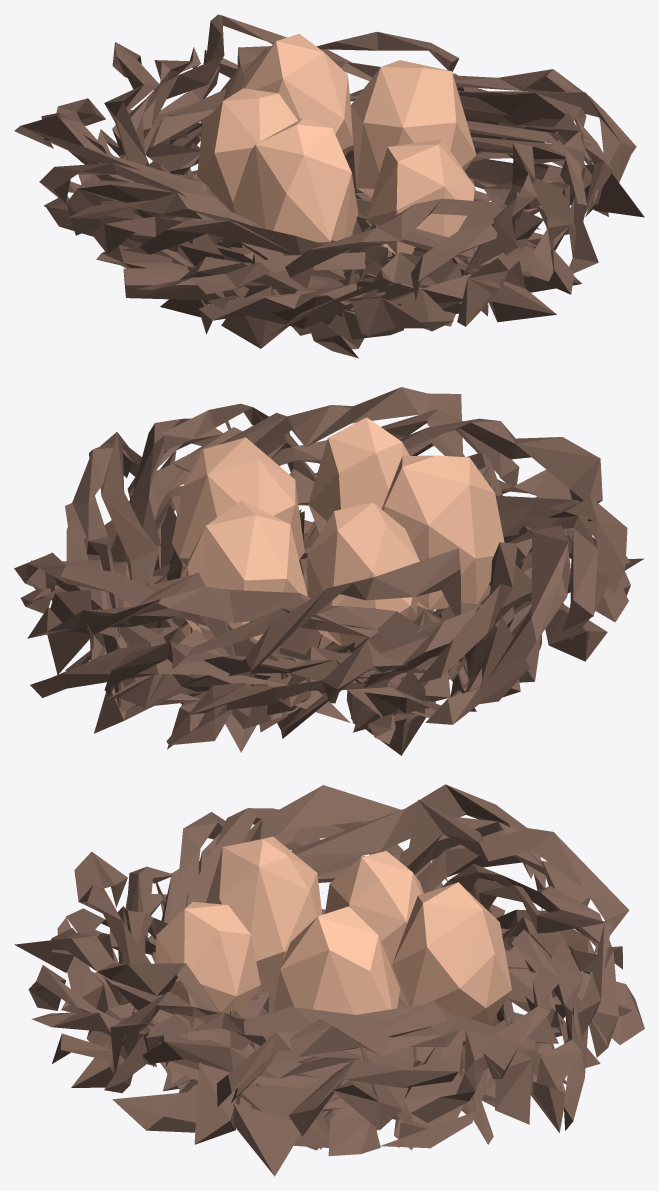
Rendered from Nest_23.fbx.
The picture shows the model from 3 angles, top to bottom: view 1: azimuth 30°, elevation 25°; view 2: azimuth 150°, elevation 25°; view 3: azimuth 270°, elevation 25°; orthographic projection. The views are drawn at different scales.
Parts seen in each view (by area): view 1: Nest_23_LOD0; view 2: Nest_23_LOD0; view 3: Nest_23_LOD0.
Part boxes in pixels (x1=…): Nest_23_LOD0: x1=14, y1=14, x2=644, y2=358; Nest_23_LOD0: x1=14, y1=387, x2=644, y2=755; Nest_23_LOD0: x1=14, y1=784, x2=644, y2=1176.
Size of what is drawn, in the model's own units: 48.01 by 18.96 by 49.74.
